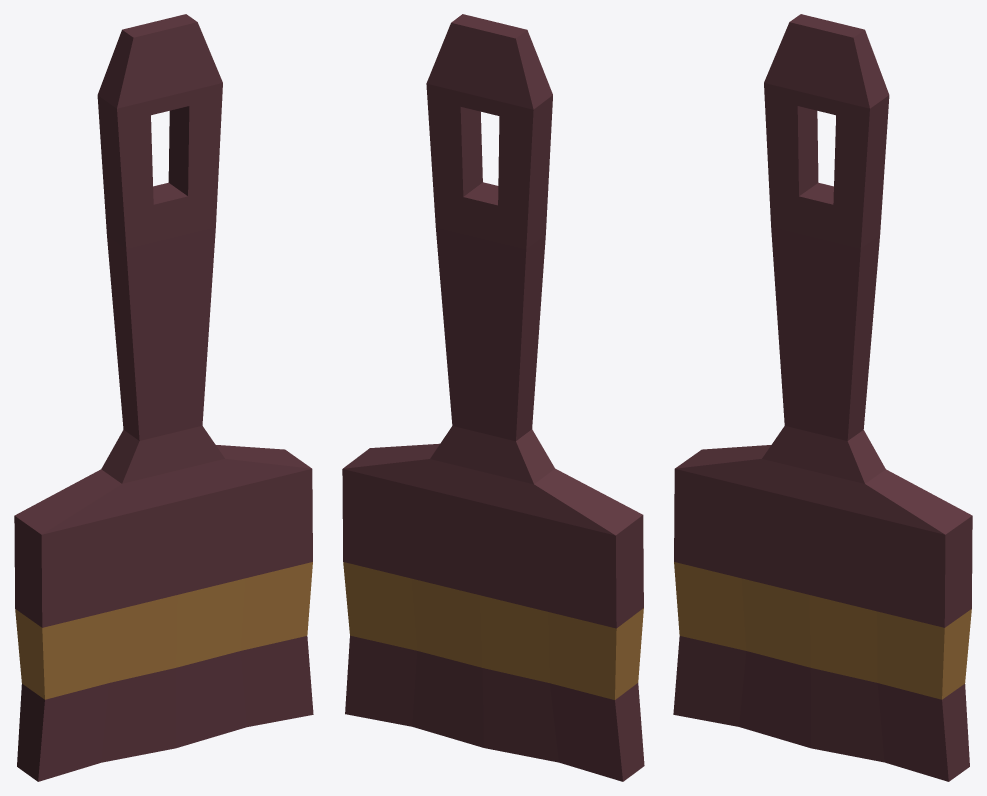
Rendered from brush-straight-wide-paint.fbx.
3 views of the same model, side by side, from view 1: azimuth 30°, elevation 25°; view 2: azimuth 150°, elevation 25°; view 3: azimuth 330°, elevation 25° (orthographic).
Visible parts, largest first — view 1: brush-straight-wide-paint; view 2: brush-straight-wide-paint; view 3: brush-straight-wide-paint.
Part boxes in pixels (box(x1,y1,x2,y2)): brush-straight-wide-paint: box(14, 14, 313, 781); brush-straight-wide-paint: box(342, 14, 644, 781); brush-straight-wide-paint: box(673, 14, 972, 781).
Size of the model in its own units: 0.0984 by 0.2429 by 0.0172.
